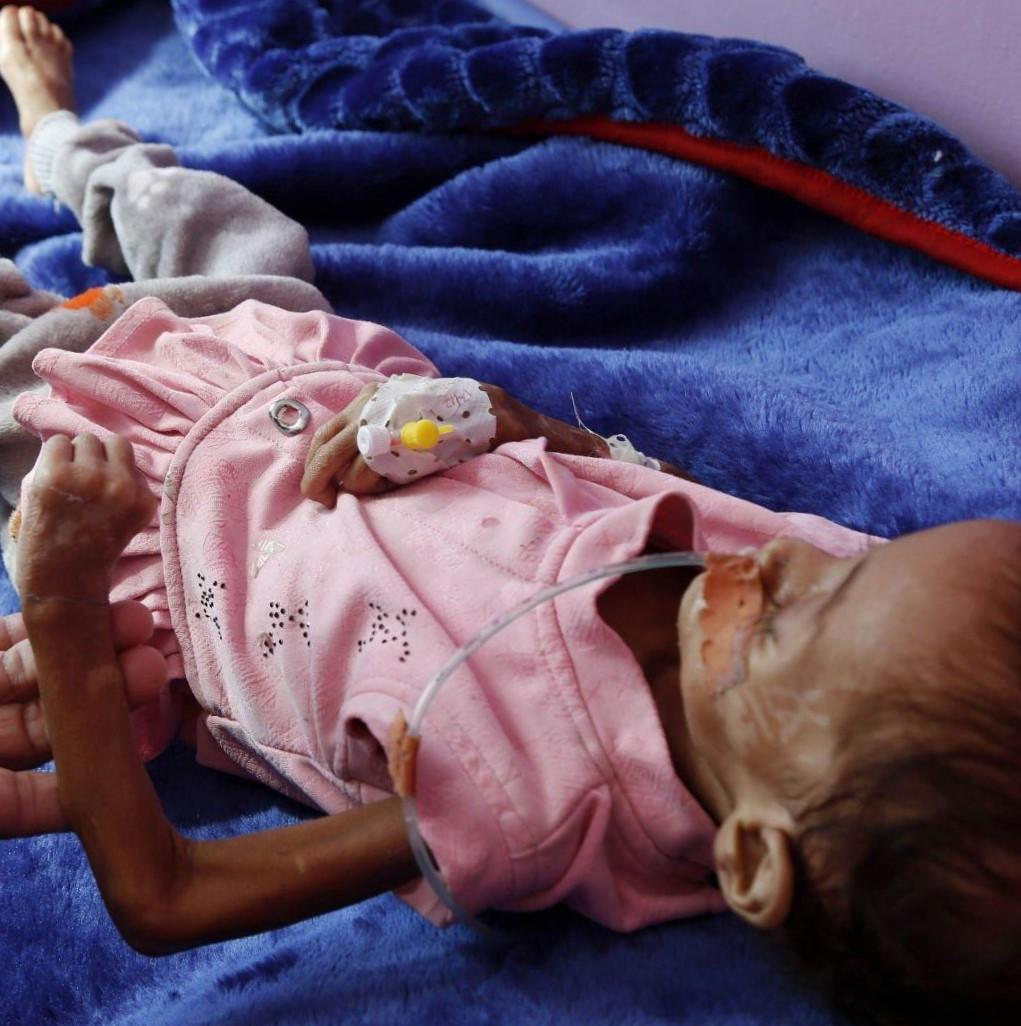Stunting: (630, 415, 1021, 1026)
